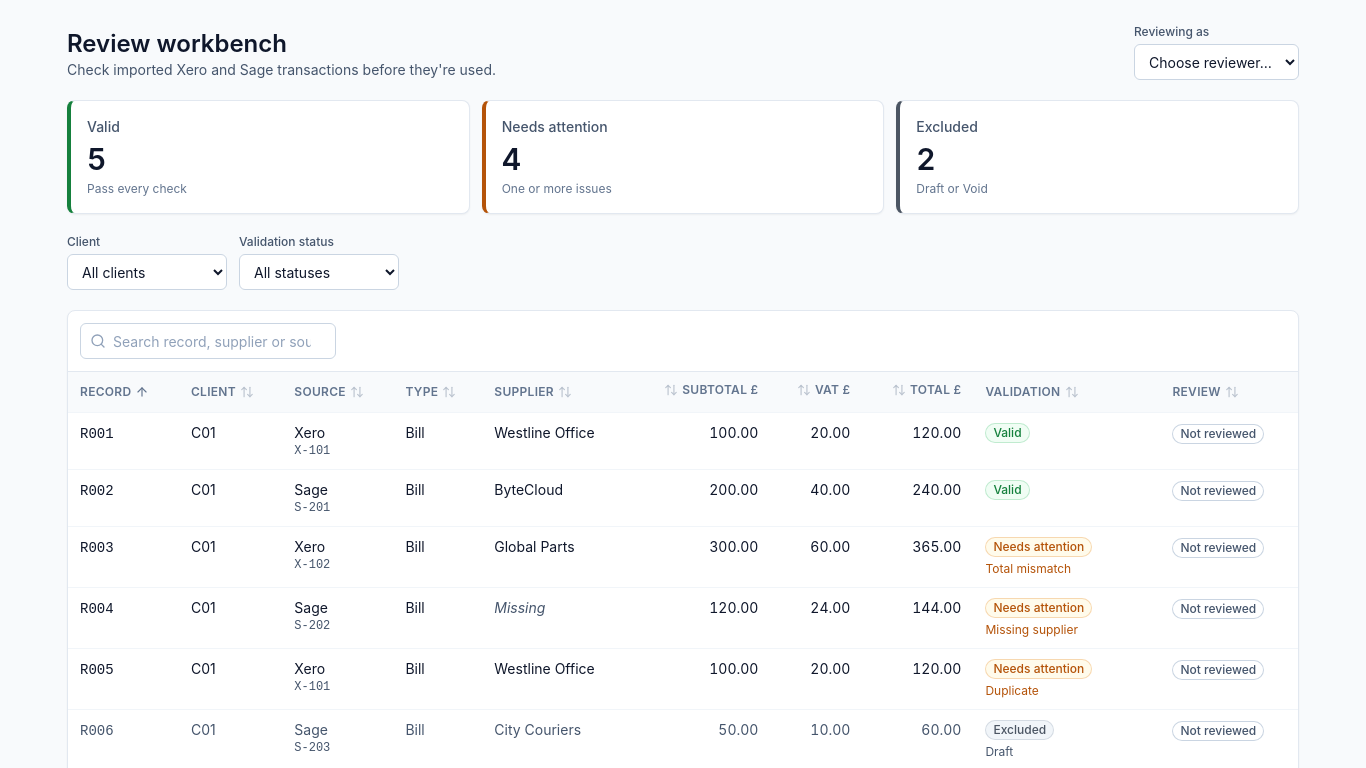
Test case: Workbench › filters › keeps the status dropdown and the cards in sync
Expected: the text "R001" is shown, left=80, top=426, right=114, bottom=442
Click the button "Excluded 2 Draft or Void".
click(947, 126)  # box left=896, top=100, right=1299, bottom=214
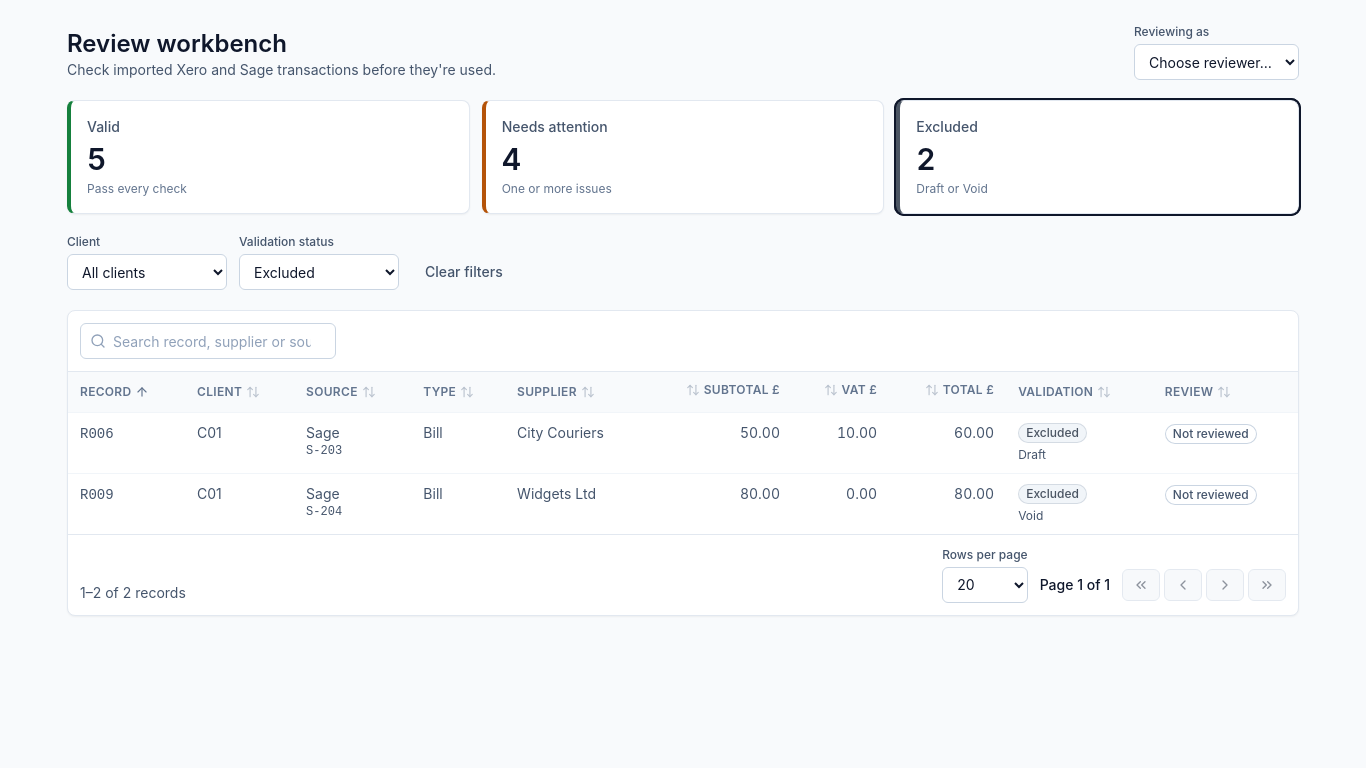
Expected: the dropdown labelled "Validation status" shows "Excluded", left=239, top=254, right=399, bottom=290
